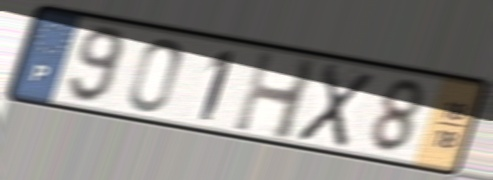0: (127, 36, 186, 115)
1: (199, 48, 236, 123)
8: (367, 77, 428, 156)
9: (66, 25, 127, 107)
H: (228, 46, 323, 145)
X: (293, 59, 379, 151)
